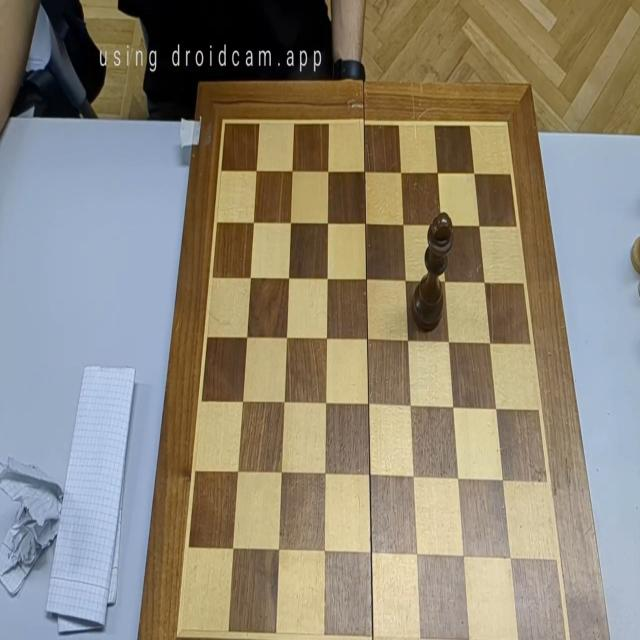black_king: (412, 213, 453, 332)
